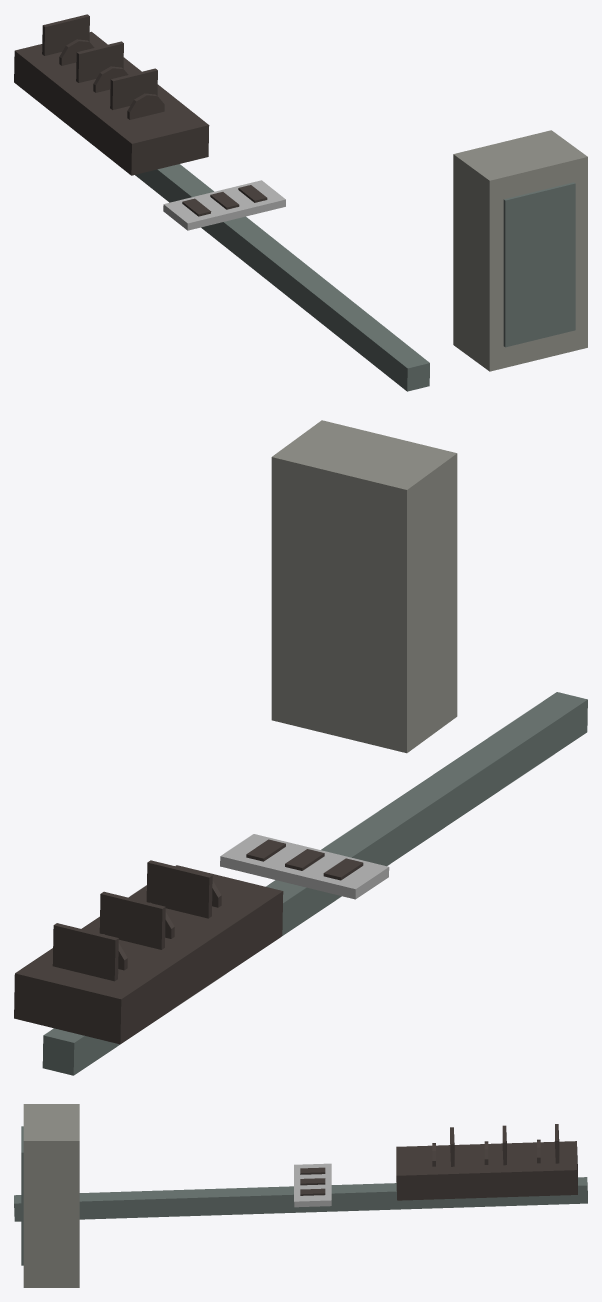
The model's file is SM_senal_via_v3_LOD0.fbx.
3 renders of one model, top to bottom at view 1: azimuth 30°, elevation 25°; view 2: azimuth 150°, elevation 25°; view 3: azimuth 270°, elevation 25°, orthographic. The views are drawn at different scales.
Parts seen in each view (by area): view 1: SM_bloques.senal_via_v3_LOD0; view 2: SM_bloques.senal_via_v3_LOD0; view 3: SM_bloques.senal_via_v3_LOD0.
Part boxes in pixels (bbox=[...]): SM_bloques.senal_via_v3_LOD0: bbox=[14, 14, 587, 391]; SM_bloques.senal_via_v3_LOD0: bbox=[14, 420, 587, 1075]; SM_bloques.senal_via_v3_LOD0: bbox=[14, 1104, 587, 1287].
Size of the model in its own units: 1.6 by 1.3 by 4.6.
